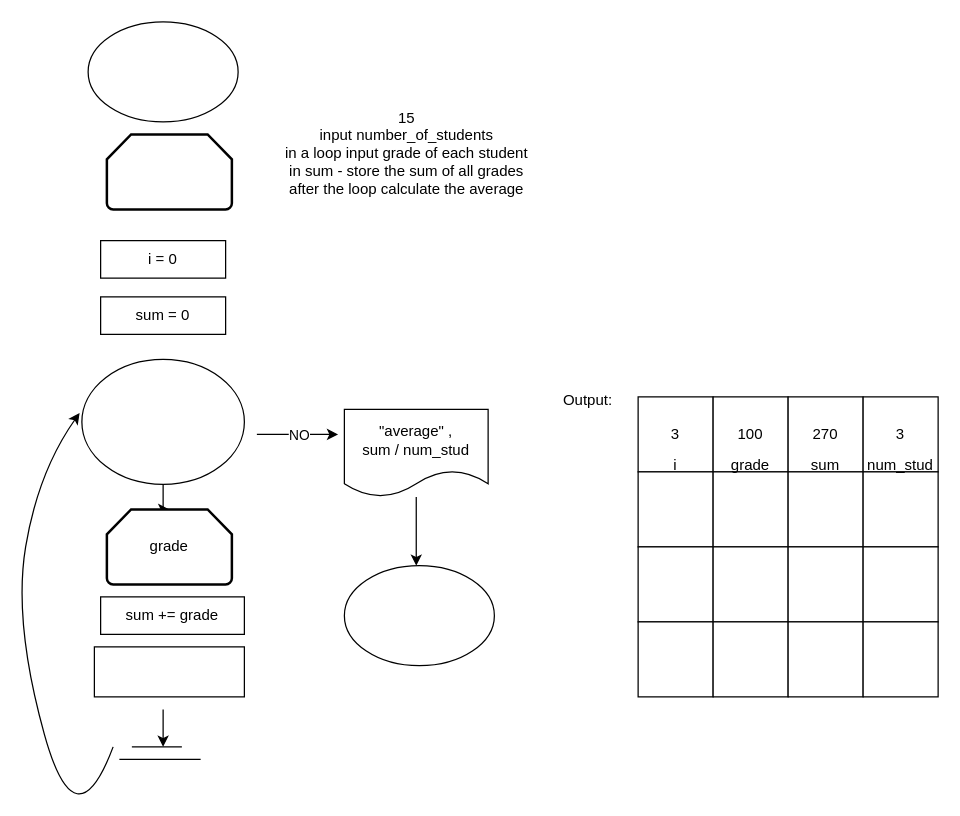
Image size: 960x816. Some labels were removed from this diagram. Each missing label, with the centre of its shape:
END: the point at 418,615
i += 1: the point at 168,671
i < num_students: the point at 162,421
num_students: the point at 168,171
START: the point at 162,71
